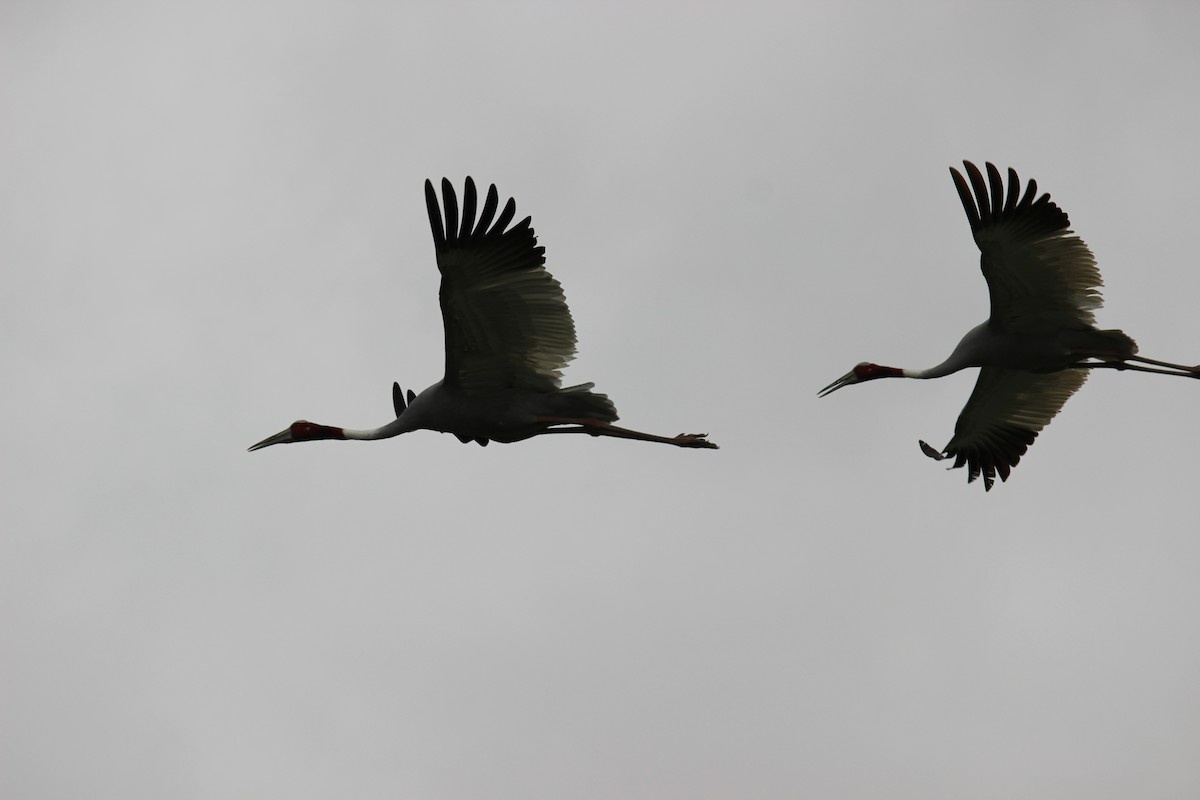crane: (243, 169, 729, 474), (802, 154, 1200, 517)
